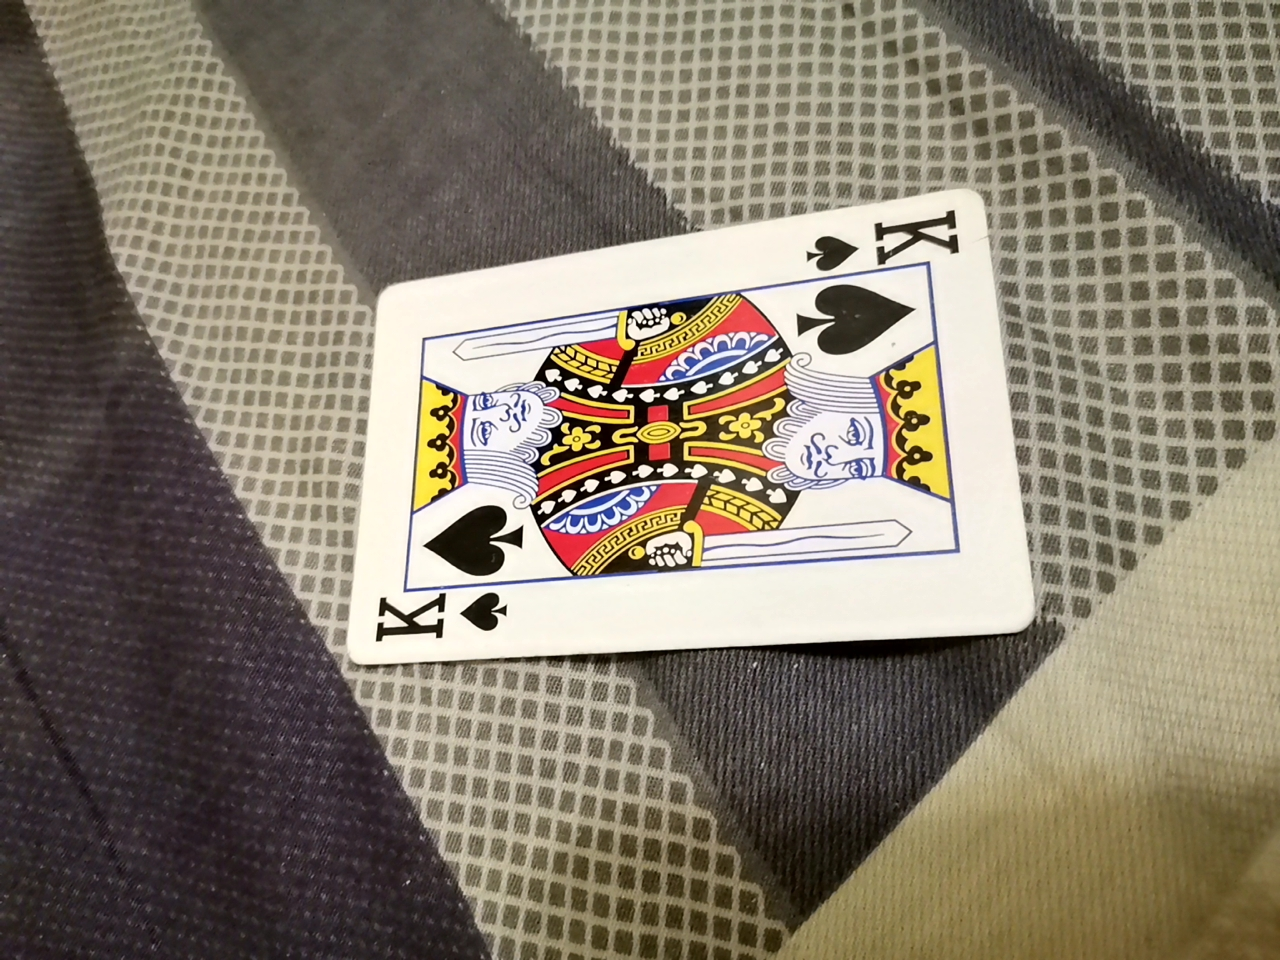ht k: (349, 173, 1013, 676)
